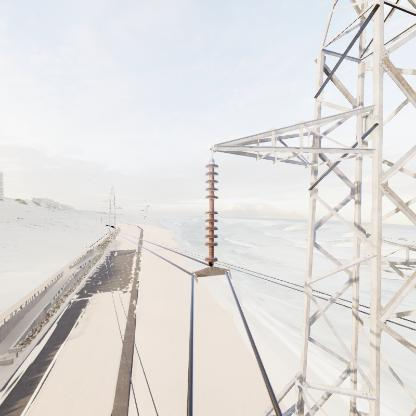insulator: (201, 160, 222, 270)
